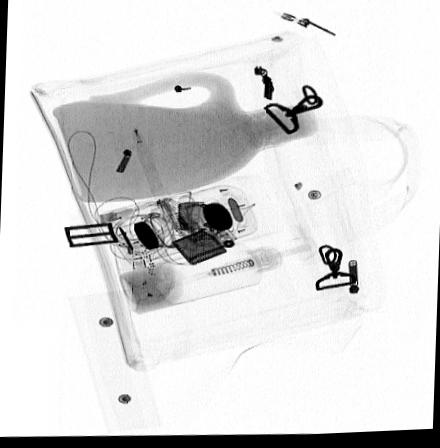Lighter: (169, 202, 237, 266)
